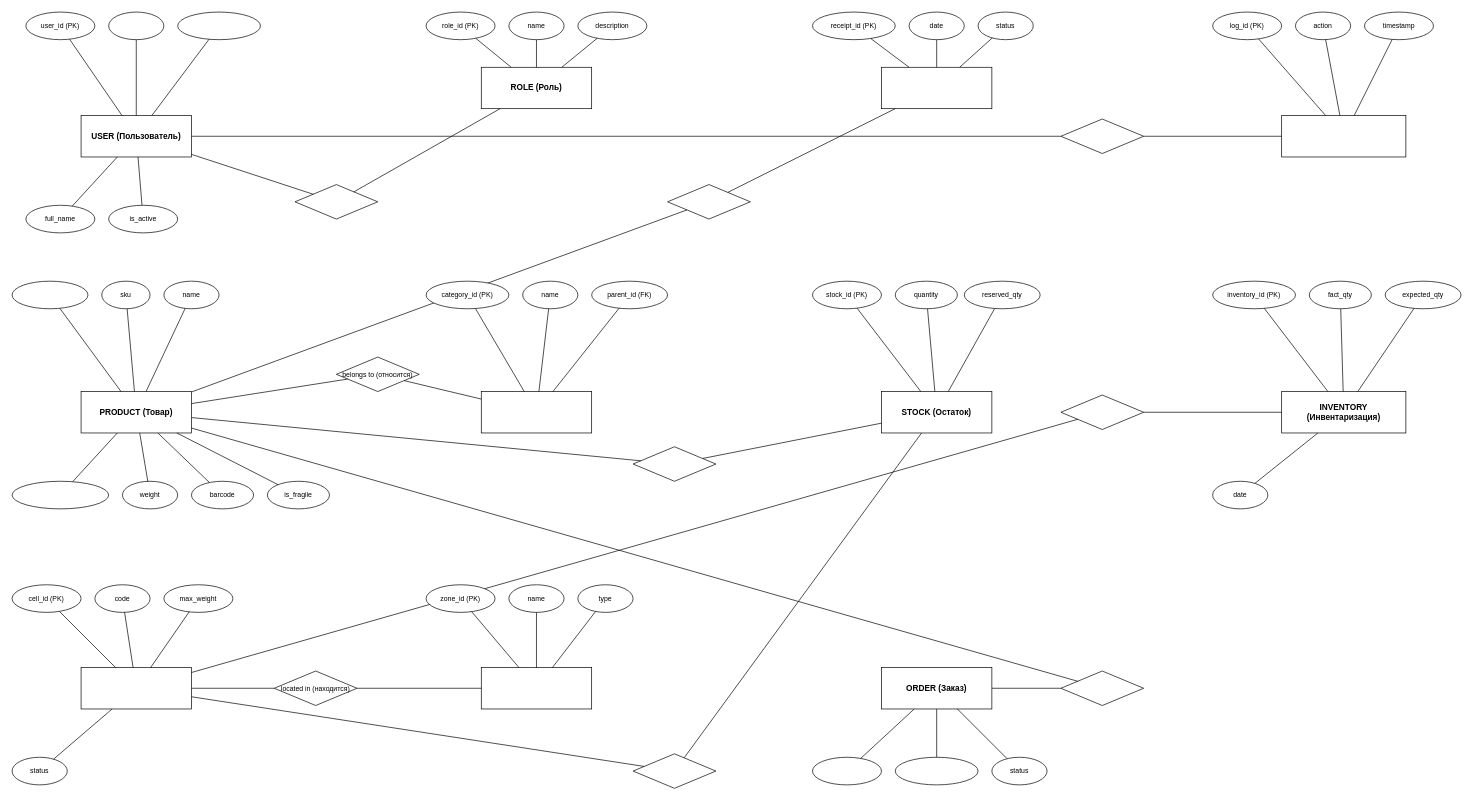
This 1473x800 diagram has some shape labels left out. The shapes that lost their labels are listed below. From the top down, each one's centre as x and y in pixels, then its label:
At pixel 136 25: "login".
At pixel 218 25: "password_hash".
At pixel 936 88: "RECEIPT (Приёмка)".
At pixel 1102 136: "registered by (регистрирует)".
At pixel 1343 136: "OPERATION_LOG (Журнал операций)".
At pixel 336 201: "has (имеет)".
At pixel 708 201: "contains (включает)".
At pixel 49 294: "product_id (PK)".
At pixel 536 412: "CATEGORY (Категория)".
At pixel 1102 412: "checks (проверяет)".
At pixel 674 463: "stored in (хранится)".
At pixel 60 495: "dimensions (ДхШхВ)".
At pixel 135 688: "CELL (Ячейка)".
At pixel 536 688: "ZONE (Зона)".
At pixel 1102 688: "includes (включает)".
At pixel 674 770: "holds (содержит)".
At pixel 846 771: "order_id (PK)".
At pixel 936 771: "customer_name".
